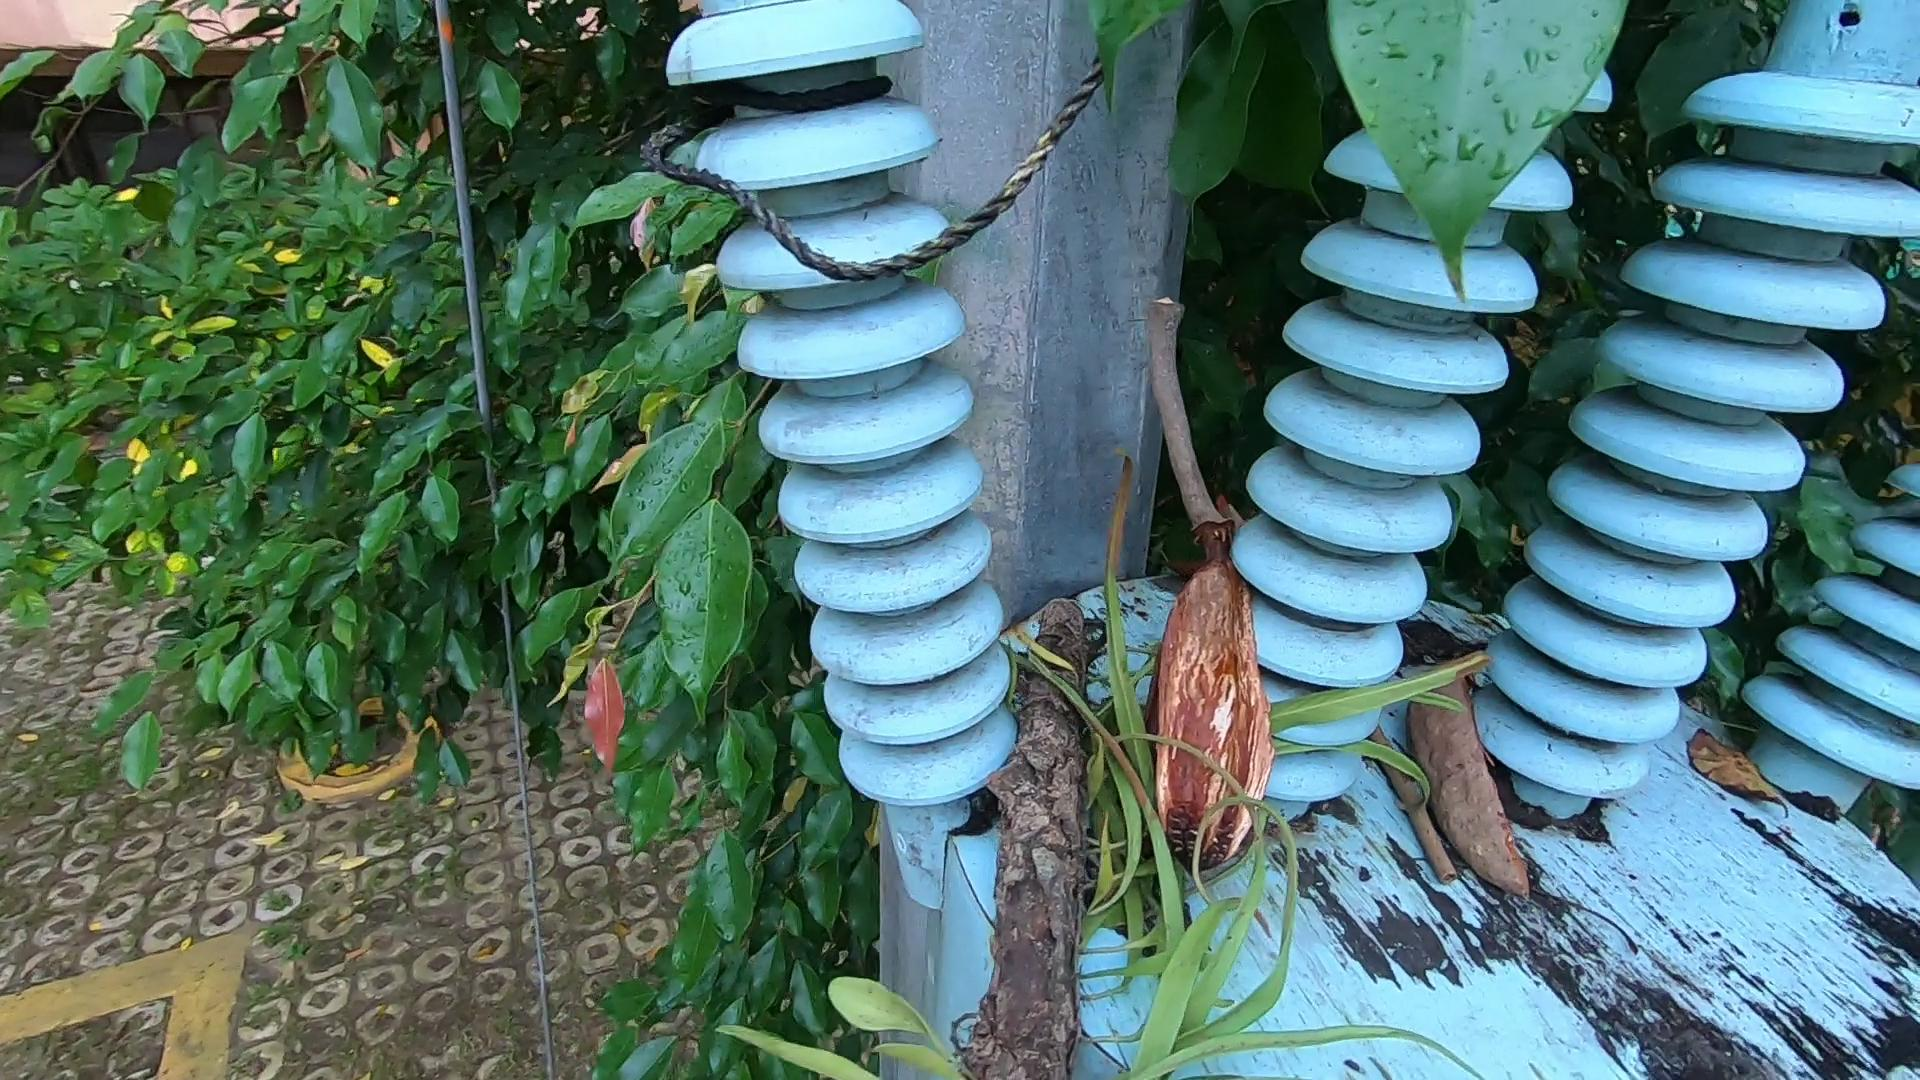branch with leaves: (956, 436, 1485, 1080)
leaf: (1685, 731, 1795, 818)
mahogany fruit: (1383, 601, 1545, 909), (1104, 546, 1288, 769)
tree branch: (1141, 286, 1237, 527), (1370, 721, 1458, 890)
